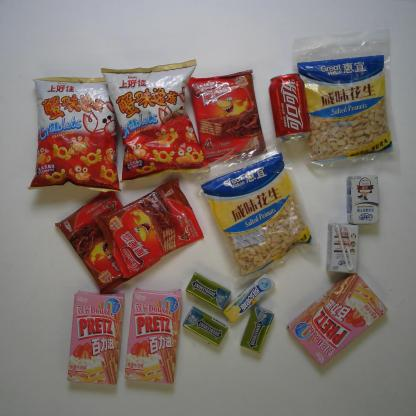Candy: (222, 272, 277, 324)
Dessert: (94, 177, 206, 283), (55, 189, 161, 296), (286, 271, 388, 367), (185, 69, 268, 166), (122, 287, 184, 385), (66, 288, 127, 386)
Dried Fruit: (188, 132, 320, 286), (291, 28, 402, 174)
Drink: (267, 71, 312, 144)
Gum: (184, 271, 233, 312), (182, 306, 229, 347), (240, 304, 275, 354)
Milk: (324, 221, 362, 276), (346, 172, 381, 228)
Puffed Food: (101, 58, 212, 184), (26, 76, 124, 193)
